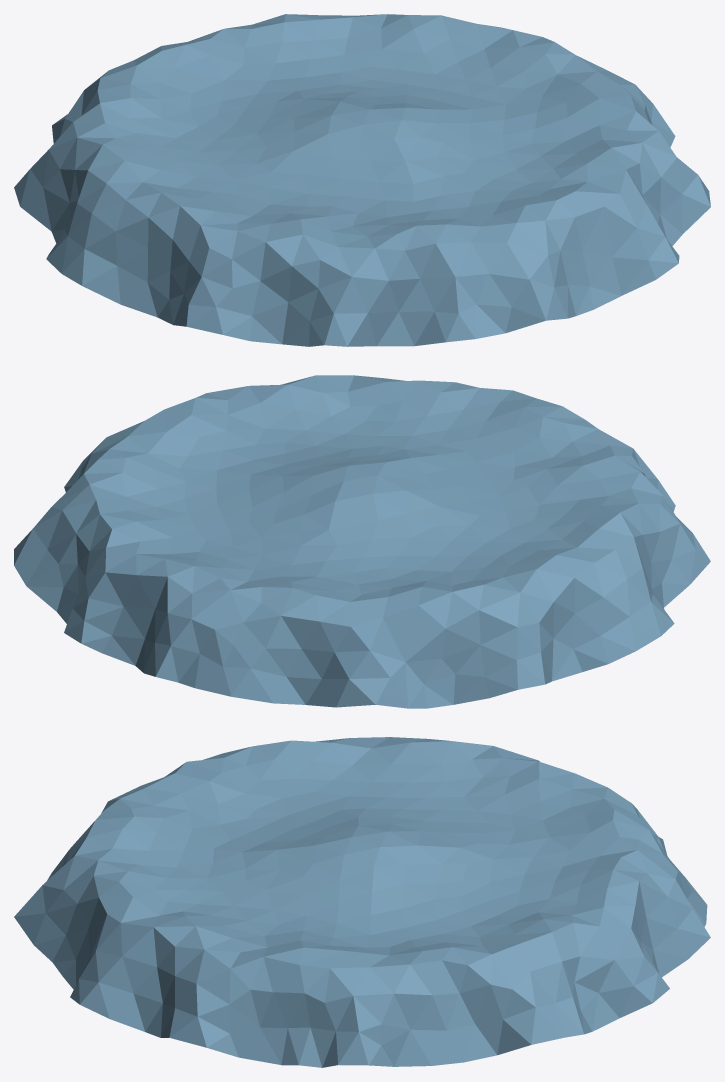
Rendered from level_0.glb.
3 renders of one model, top to bottom at view 1: azimuth 30°, elevation 25°; view 2: azimuth 150°, elevation 25°; view 3: azimuth 270°, elevation 25°, orthographic.
Visible parts, largest first — view 1: world; view 2: world; view 3: world.
Part boxes in pixels (left/top/right/bottom): world: left=14, top=14, right=710, bottom=346; world: left=14, top=375, right=710, bottom=708; world: left=14, top=737, right=710, bottom=1067.
Bounding box in the file's own units: 0.5794 × 0.0977 × 0.5864.
